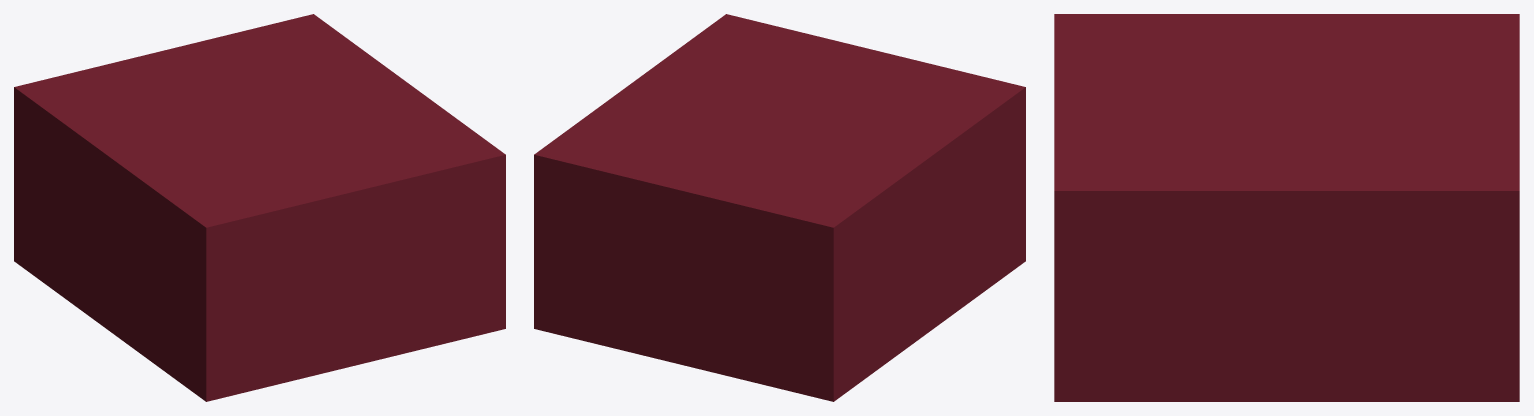
The model's file is stage_002_grp.fbx.
3 views of the same model, side by side, from view 1: azimuth 30°, elevation 25°; view 2: azimuth 150°, elevation 25°; view 3: azimuth 270°, elevation 25° (orthographic). The views are drawn at different scales.
Parts seen in each view (by area): view 1: stage_002_grp; view 2: stage_002_grp; view 3: stage_002_grp.
Boxes of the visible parts, x1,y1,x2,y2 form: stage_002_grp: (14, 14, 505, 401); stage_002_grp: (534, 14, 1025, 401); stage_002_grp: (1054, 14, 1519, 401).
Size of the model in its own units: 360 by 200 by 400.
